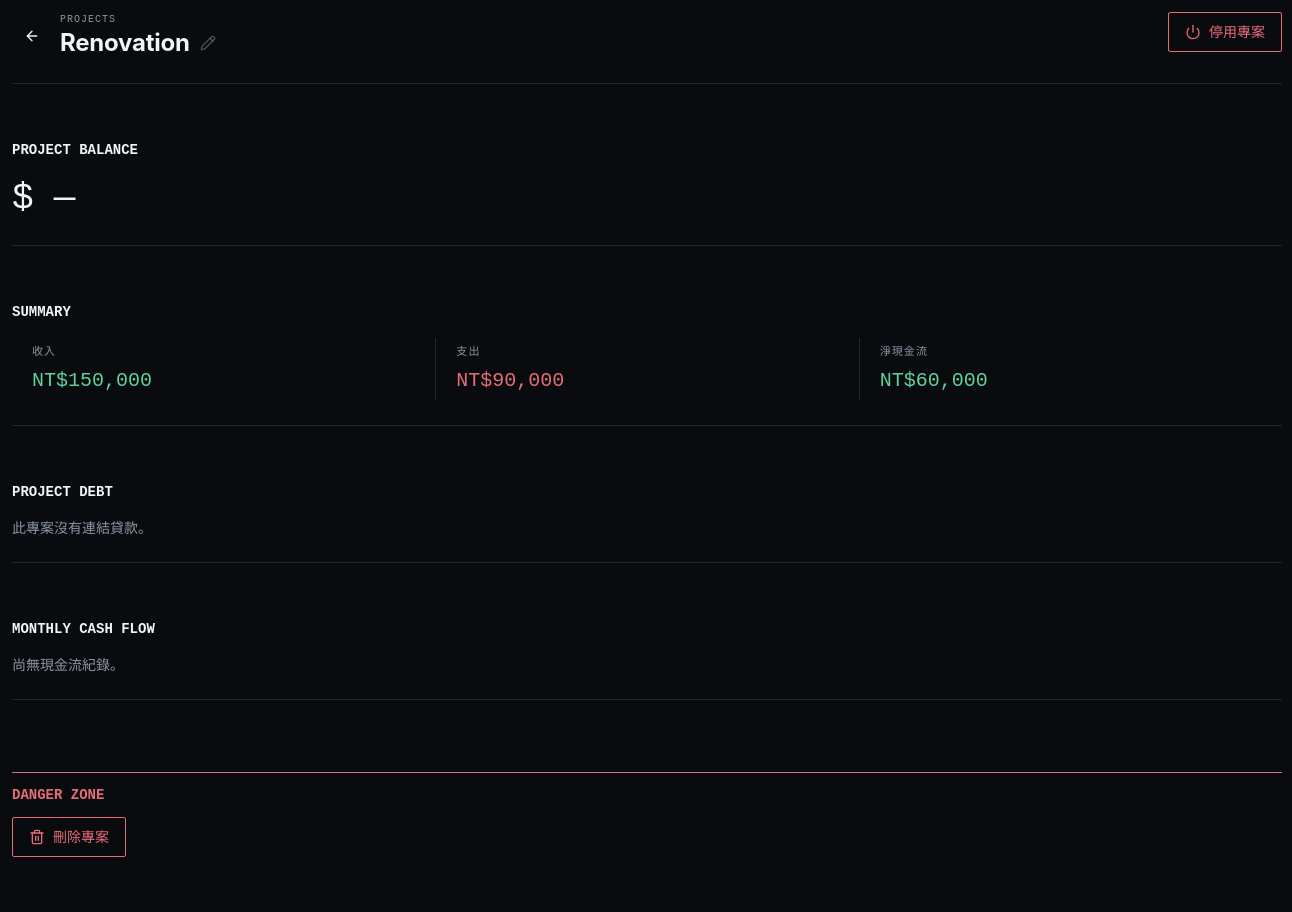
ProjectDetailPage lifecycle actions › deactivates via the existing update command and reflects the new state
What coordinates should you click on to do the following:
click the button "停用專案"
I would click on:
 (1225, 32)
Its box is left=1168, top=12, right=1282, bottom=52.
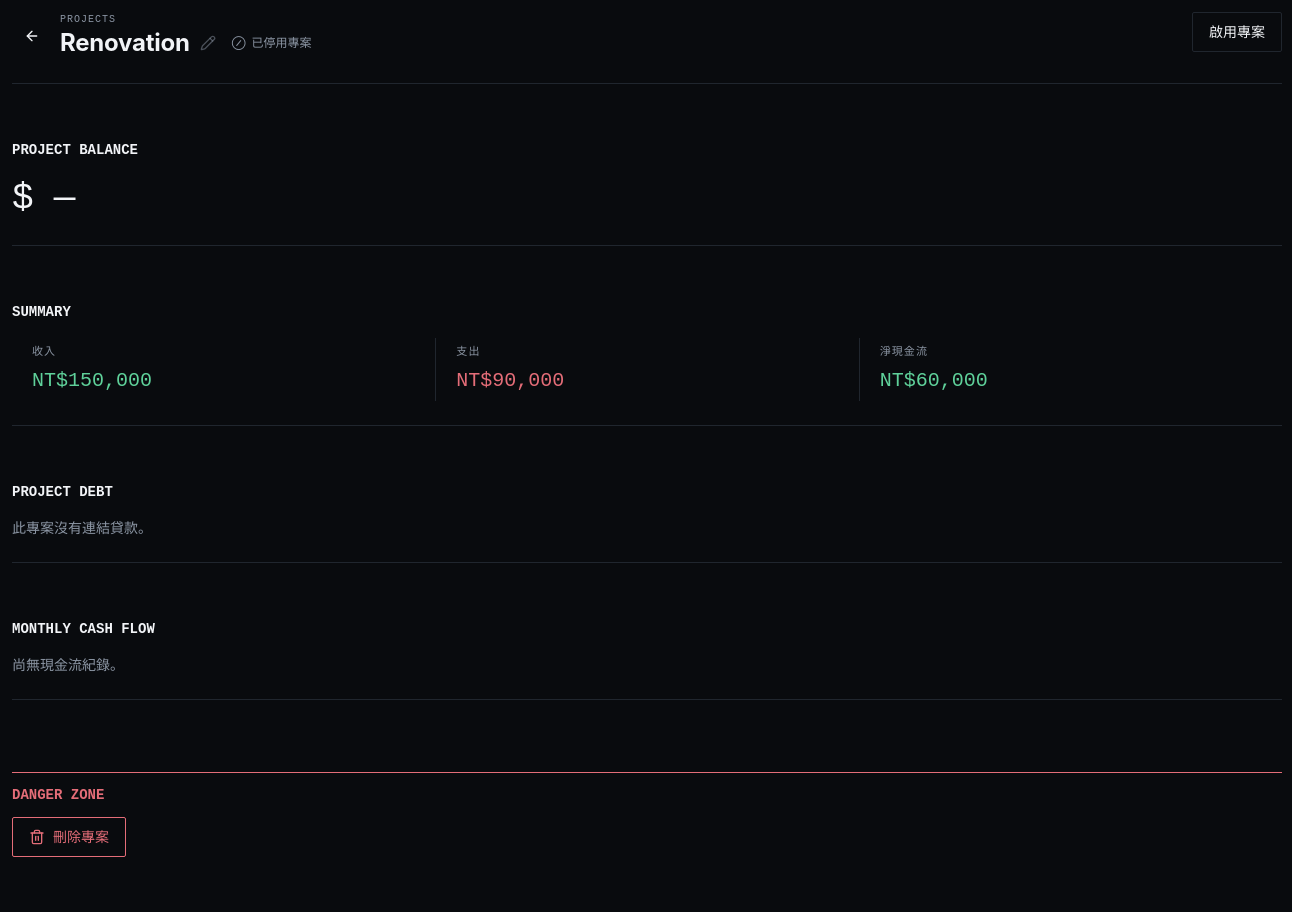
Now the button "啟用專案" is shown, box left=1192, top=12, right=1282, bottom=52
